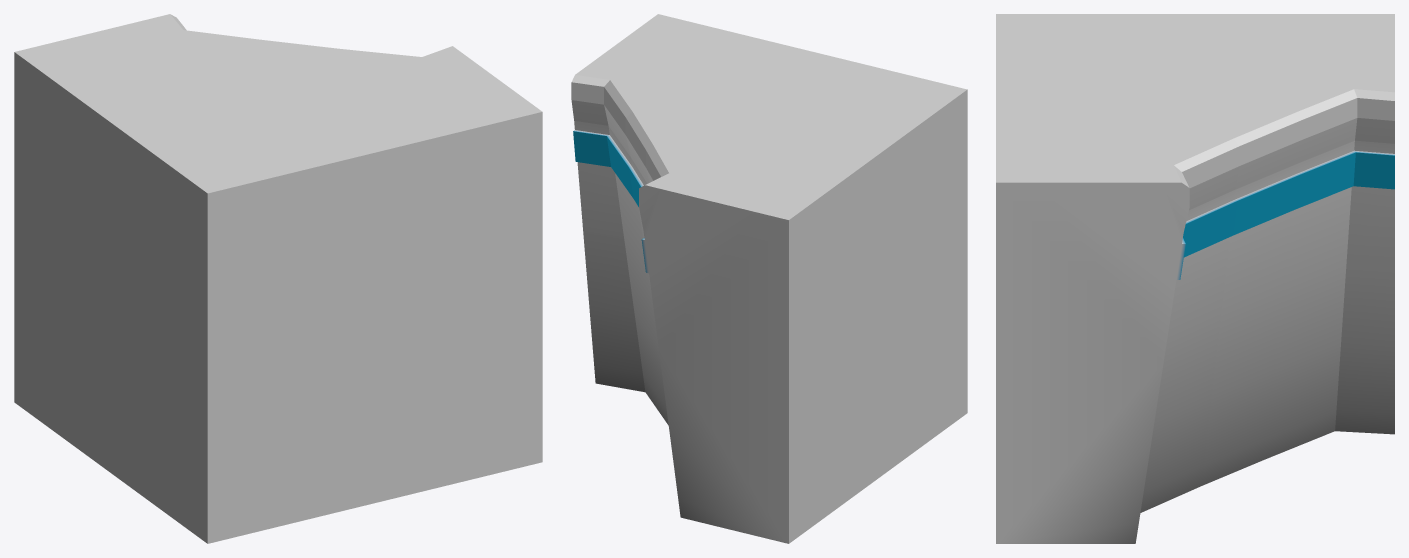
The model's file is NeonCityV4_InnerCorner_V1.fbx.
The picture shows the model from 3 angles, left to right: view 1: azimuth 30°, elevation 25°; view 2: azimuth 150°, elevation 25°; view 3: azimuth 270°, elevation 25°; orthographic projection. The views are drawn at different scales.
Parts seen in each view (by area): view 1: NeonCityV4_InnerCorner_V1; view 2: NeonCityV4_InnerCorner_V1; view 3: NeonCityV4_InnerCorner_V1.
Boxes of the visible parts, bbox=[...] form: NeonCityV4_InnerCorner_V1: bbox=[14, 14, 542, 543]; NeonCityV4_InnerCorner_V1: bbox=[571, 14, 967, 543]; NeonCityV4_InnerCorner_V1: bbox=[996, 14, 1394, 543].
Size of the model in its own units: 1 by 1 by 1.
